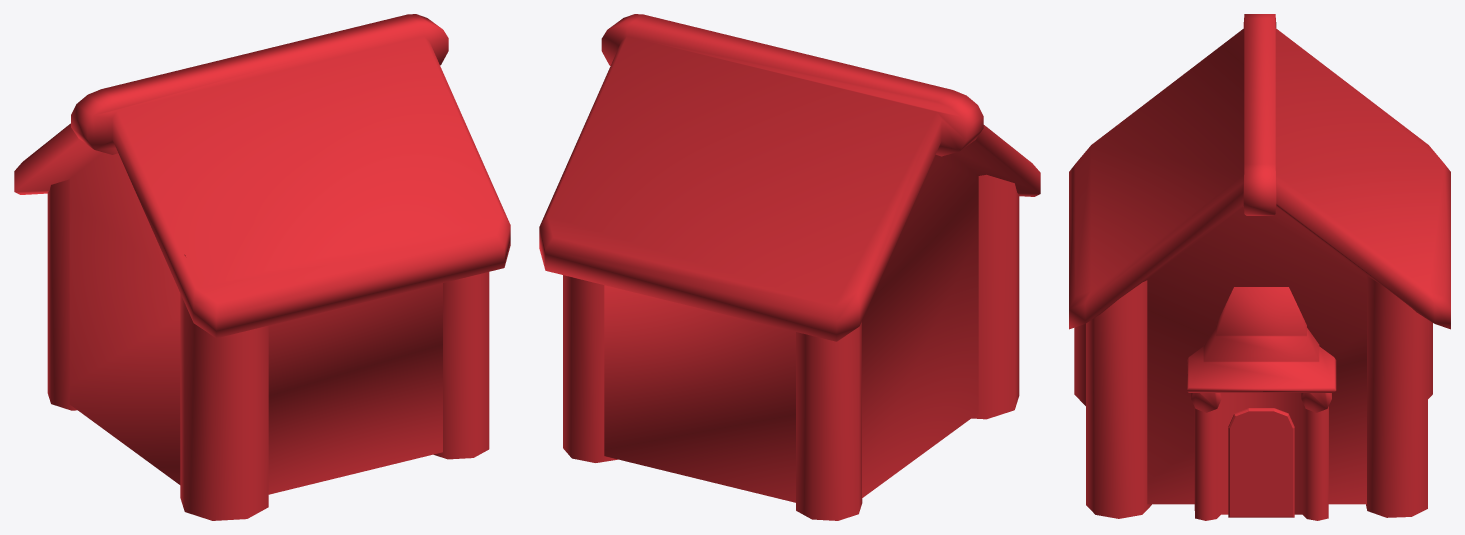
Rendered from farm_marzi.fbx.
3 views of the same model, side by side, from view 1: azimuth 30°, elevation 25°; view 2: azimuth 150°, elevation 25°; view 3: azimuth 270°, elevation 25° (orthographic). The views are drawn at different scales.
Visible parts, largest first — view 1: farm_Gbread; view 2: farm_Gbread; view 3: farm_Gbread.
Boxes of the visible parts, bbox=[...] form: farm_Gbread: bbox=[14, 14, 510, 520]; farm_Gbread: bbox=[539, 14, 1040, 520]; farm_Gbread: bbox=[1069, 14, 1450, 520].
Size of the model in its own units: 1768 by 1624 by 1580.
